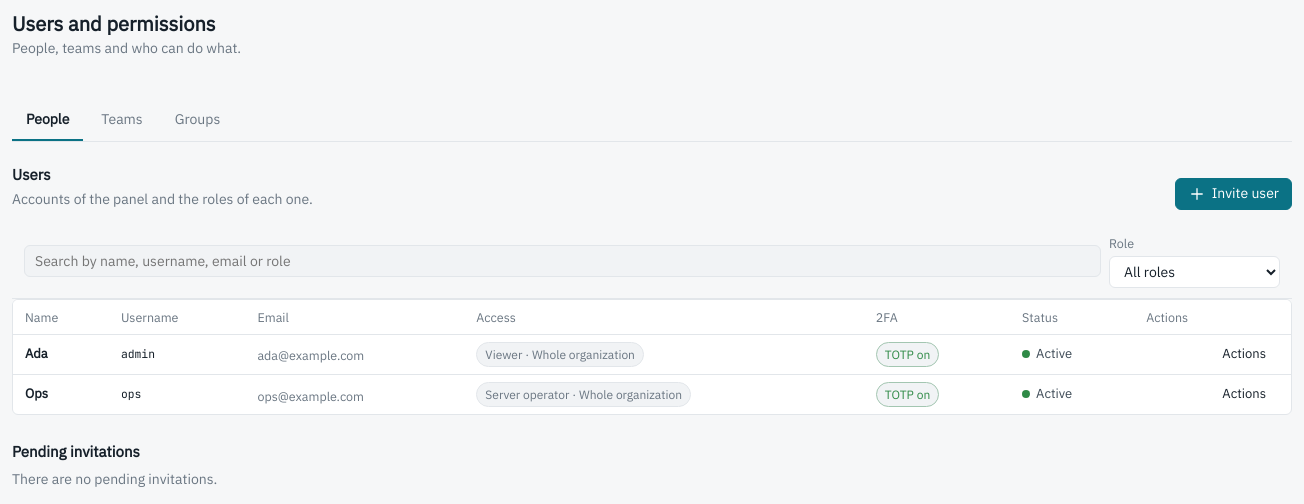
Test: Users screen › keeps the people search and role filter in the URL
The image size is (1304, 504).
Expected: the button "Ada" is shown, [25, 345, 48, 364]
Type "ops" into the search field labelled "Search".
click(562, 261); type("ops")  # box [24, 245, 1101, 277]
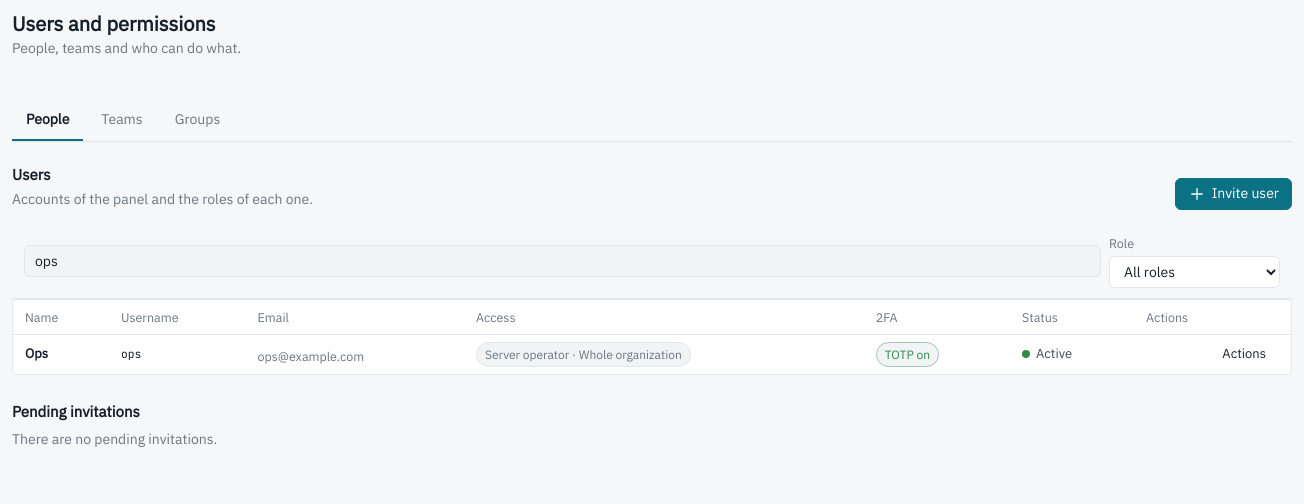
Expected: the button "Ops" is shown, [25, 345, 48, 364]
Now the button "Ada" is gone
Select "Viewer" in the dropdown labelled "Role" at (1194, 272), box [1109, 256, 1280, 288]
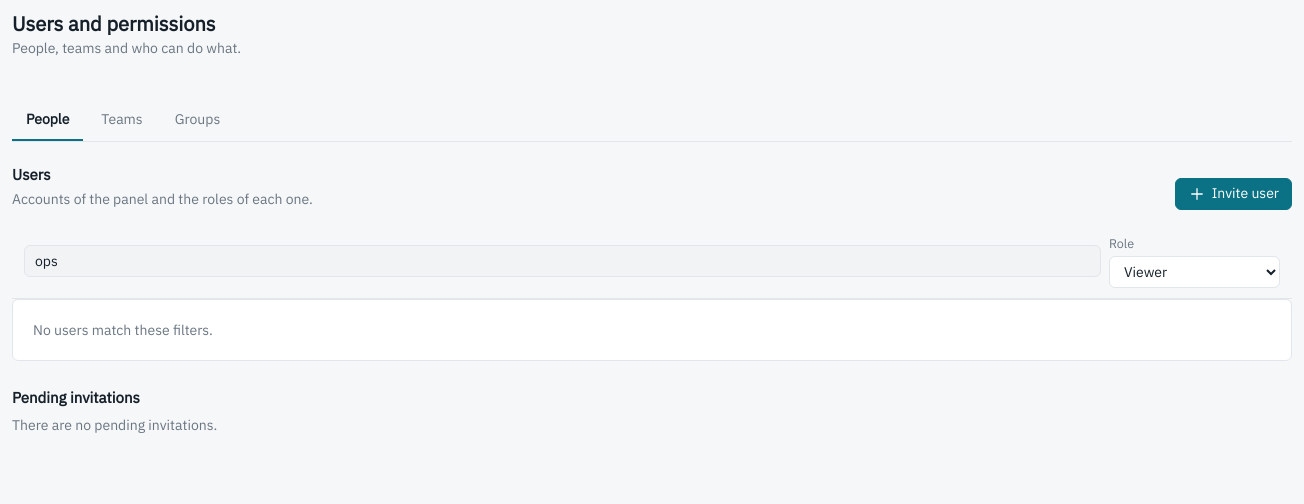
Now the text "No users match these filters." is shown, box [33, 320, 213, 340]
